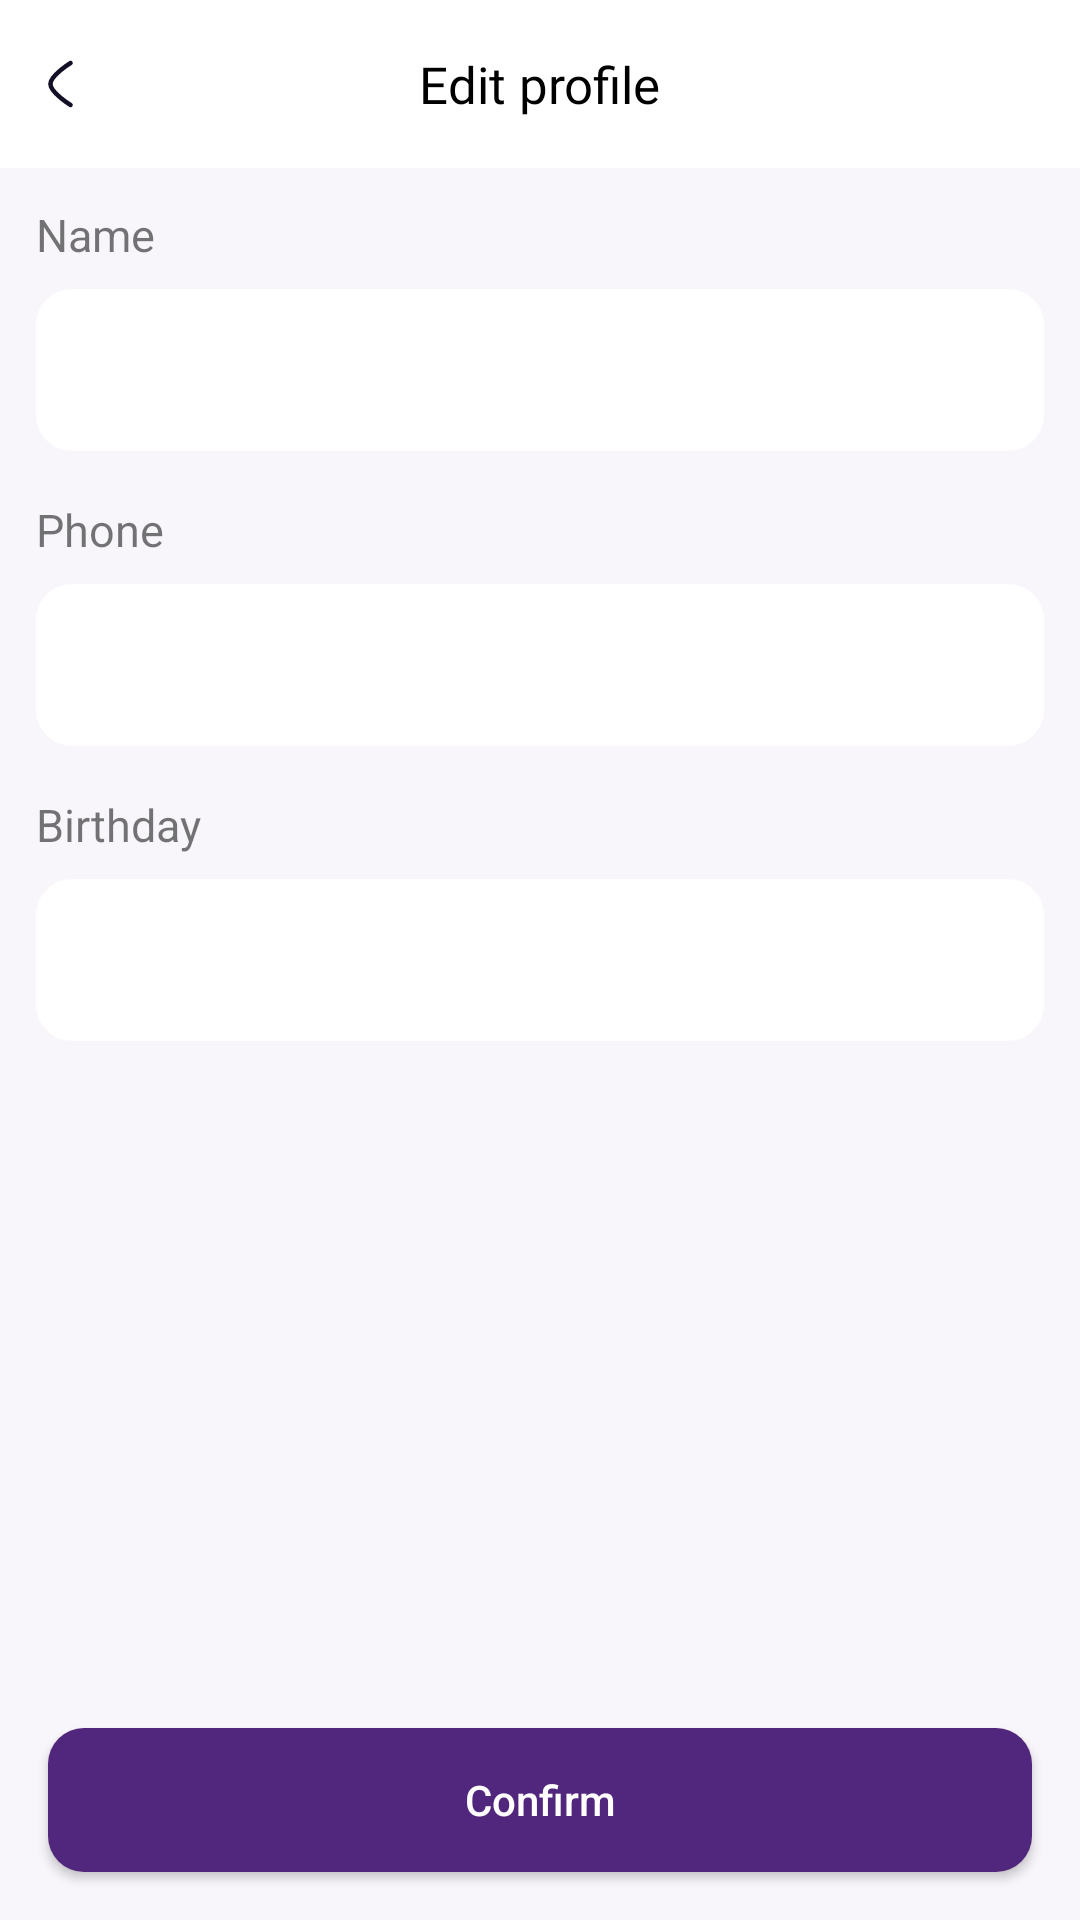

Icons on this 1080×1920 Android screen, each with the point to tap as (x,y):
left: (60,84)
